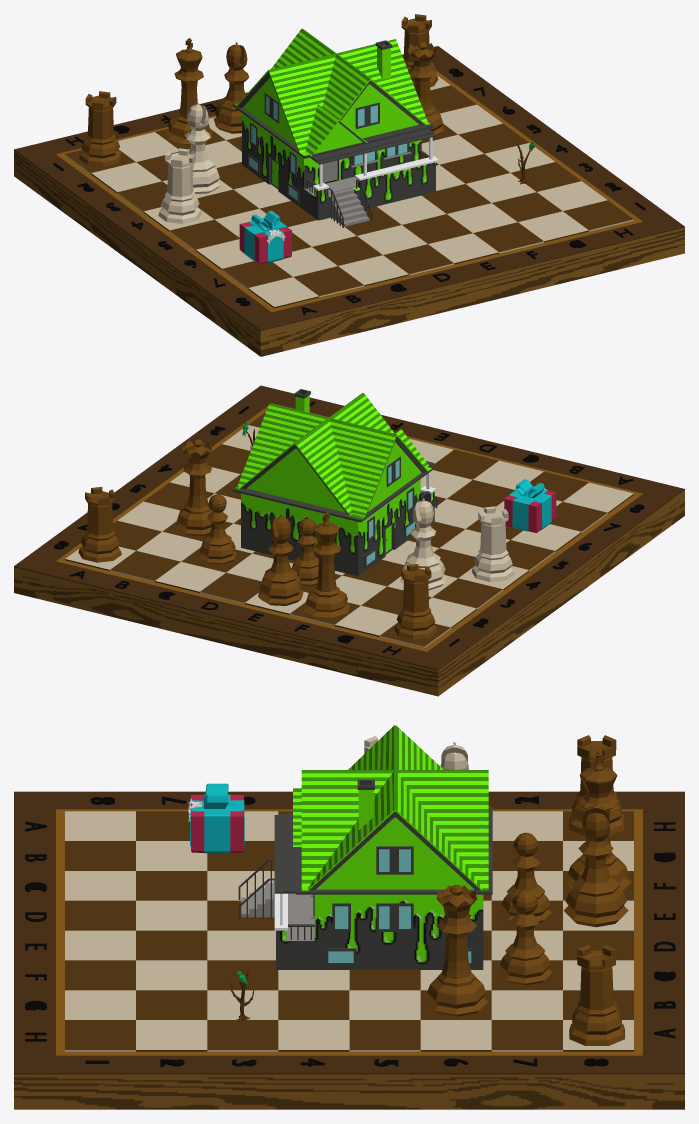
3 views of the same model, one above another, from view 1: azimuth 30°, elevation 25°; view 2: azimuth 150°, elevation 25°; view 3: azimuth 270°, elevation 25° (orthographic). The views are drawn at different scales.
Visible parts, largest first — view 1: Cube.002, Cube.754, OBJRANDOM_GIANT_PRESENT; view 2: Cube.002, Cube.754, OBJRANDOM_GIANT_PRESENT; view 3: Cube.002, Cube.754, OBJRANDOM_GIANT_PRESENT.
Boxes of the visible parts, x1,y1,x2,y2 form: Cube.002: [14, 14, 684, 356]; Cube.754: [232, 28, 438, 227]; OBJRANDOM_GIANT_PRESENT: [239, 210, 291, 264]; Cube.002: [14, 385, 684, 696]; Cube.754: [232, 389, 437, 576]; OBJRANDOM_GIANT_PRESENT: [504, 479, 556, 532]; Cube.002: [14, 735, 684, 1109]; Cube.754: [238, 725, 492, 969]; OBJRANDOM_GIANT_PRESENT: [188, 783, 244, 853].
Size of the model in its own units: 3981 by 1484 by 4012.
31 materials, 3 textured.
